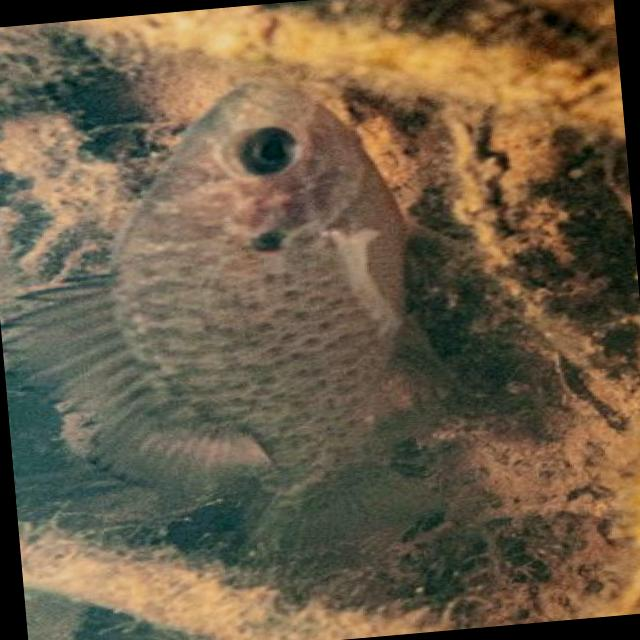Gunes Levregi: (0, 60, 503, 596)
